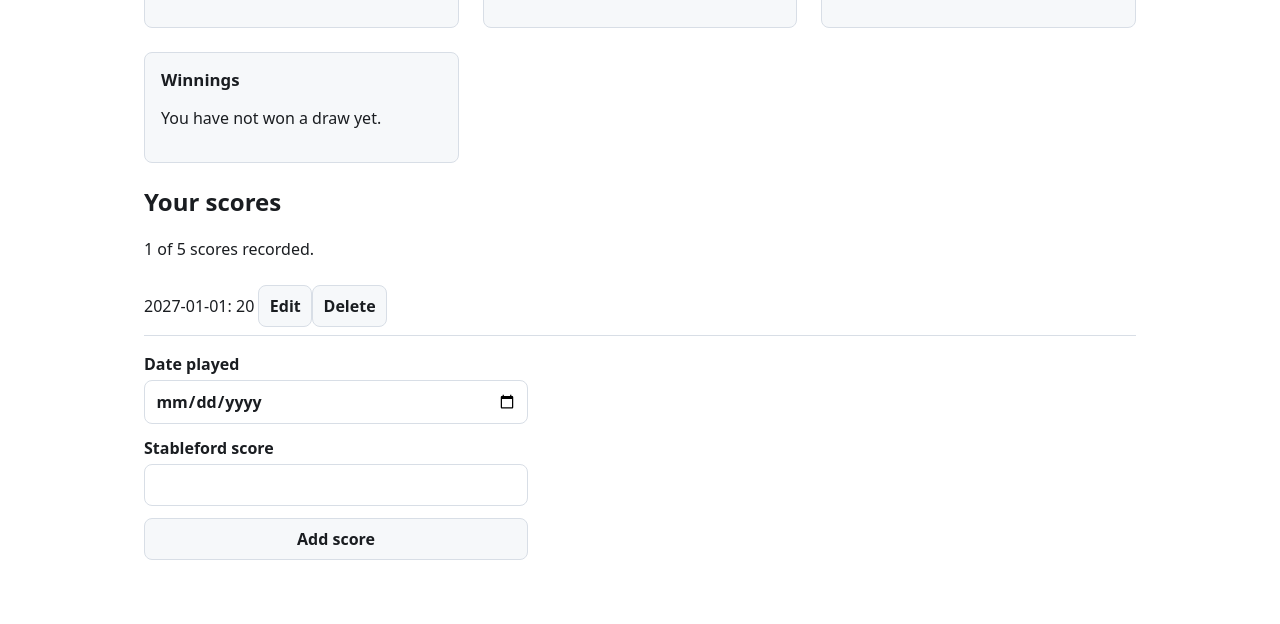
Dashboard — score entry, edit and delete (PRD §05 DSH-02) › deletes a score after confirming
(page scrolled)
Expected: the list item "2027-01-01: 20" is shown, [144,277,1136,336]
Click the button "Delete".
click(350, 306)  # box [312,285,387,327]
(page scrolled)
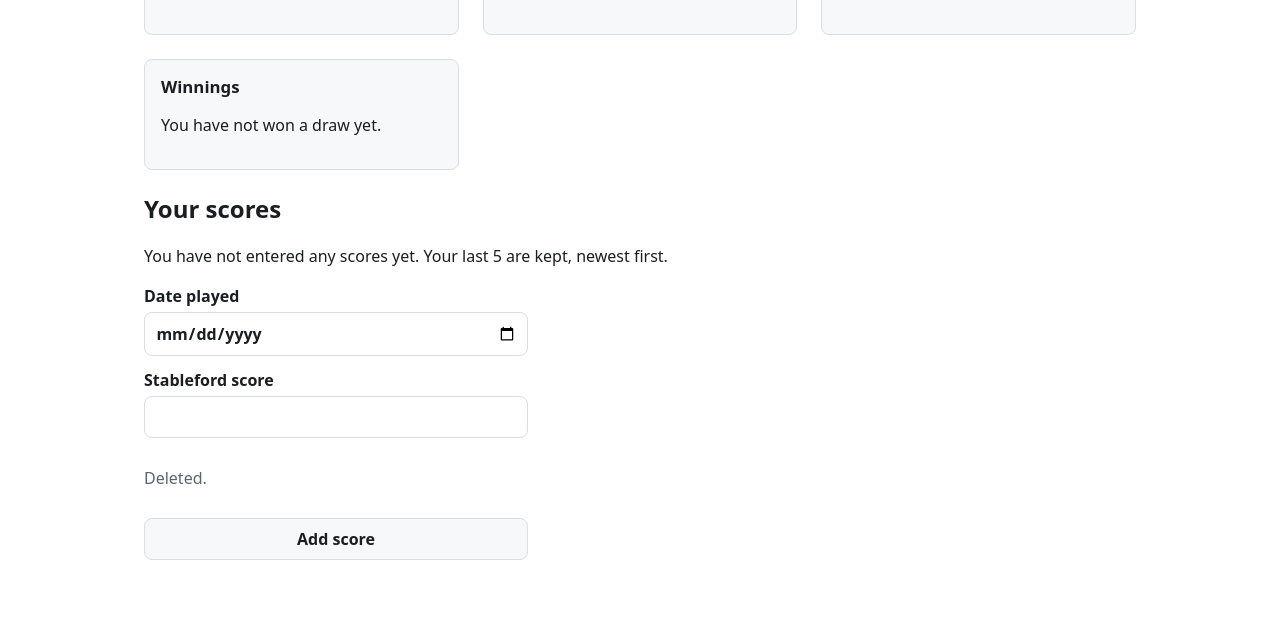
Result: the list item "2027-01-01: 20" is gone
Result: the text "You have not entered any scores yet" is shown at [144,245,668,267]
